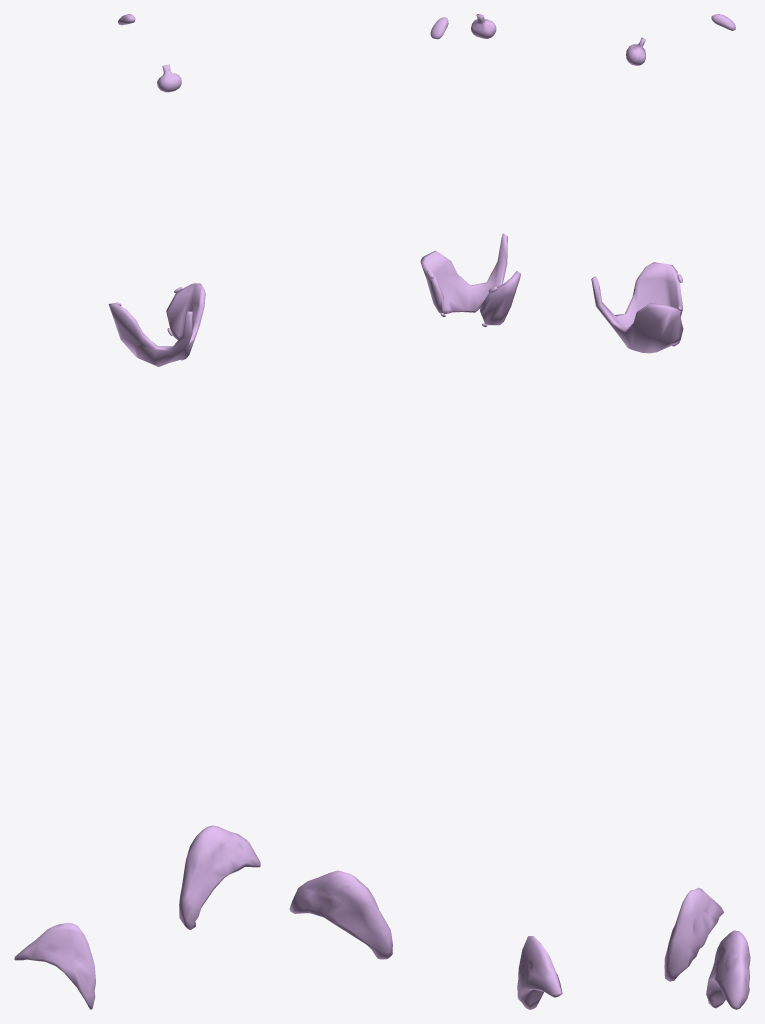
Rendered from astronaut_endocrine.glb.
The picture shows the model from 3 angles, left to right: view 1: azimuth 30°, elevation 25°; view 2: azimuth 150°, elevation 25°; view 3: azimuth 270°, elevation 25°; orthographic projection. The views are drawn at different scales.
Visible parts, largest first — view 1: GLAND_Adrenal_L, GLAND_Thyroid, GLAND_Adrenal_R; view 2: GLAND_Adrenal_L, GLAND_Thyroid, GLAND_Adrenal_R; view 3: GLAND_Thyroid, GLAND_Adrenal_R, GLAND_Adrenal_L, GLAND_Pituitary.
Part boxes in pixels (box(x1,y1,x2,y2)): GLAND_Adrenal_L: box(179, 825, 260, 929); GLAND_Thyroid: box(108, 283, 205, 366); GLAND_Adrenal_R: box(14, 922, 95, 1009); GLAND_Adrenal_L: box(289, 870, 392, 959); GLAND_Thyroid: box(420, 233, 520, 325); GLAND_Adrenal_R: box(517, 936, 562, 1009); GLAND_Thyroid: box(591, 262, 683, 353); GLAND_Adrenal_R: box(664, 887, 723, 981); GLAND_Adrenal_L: box(706, 930, 750, 1009); GLAND_Pituitary: box(626, 37, 645, 65).
Size of the model in its own units: 0.1413 by 0.5113 by 0.0739.
